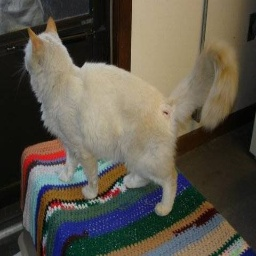cat: (21, 16, 240, 219)
